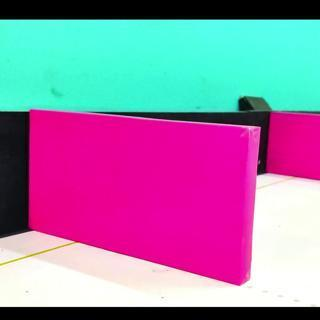xparking: (46, 134, 248, 281), (277, 118, 314, 176)
